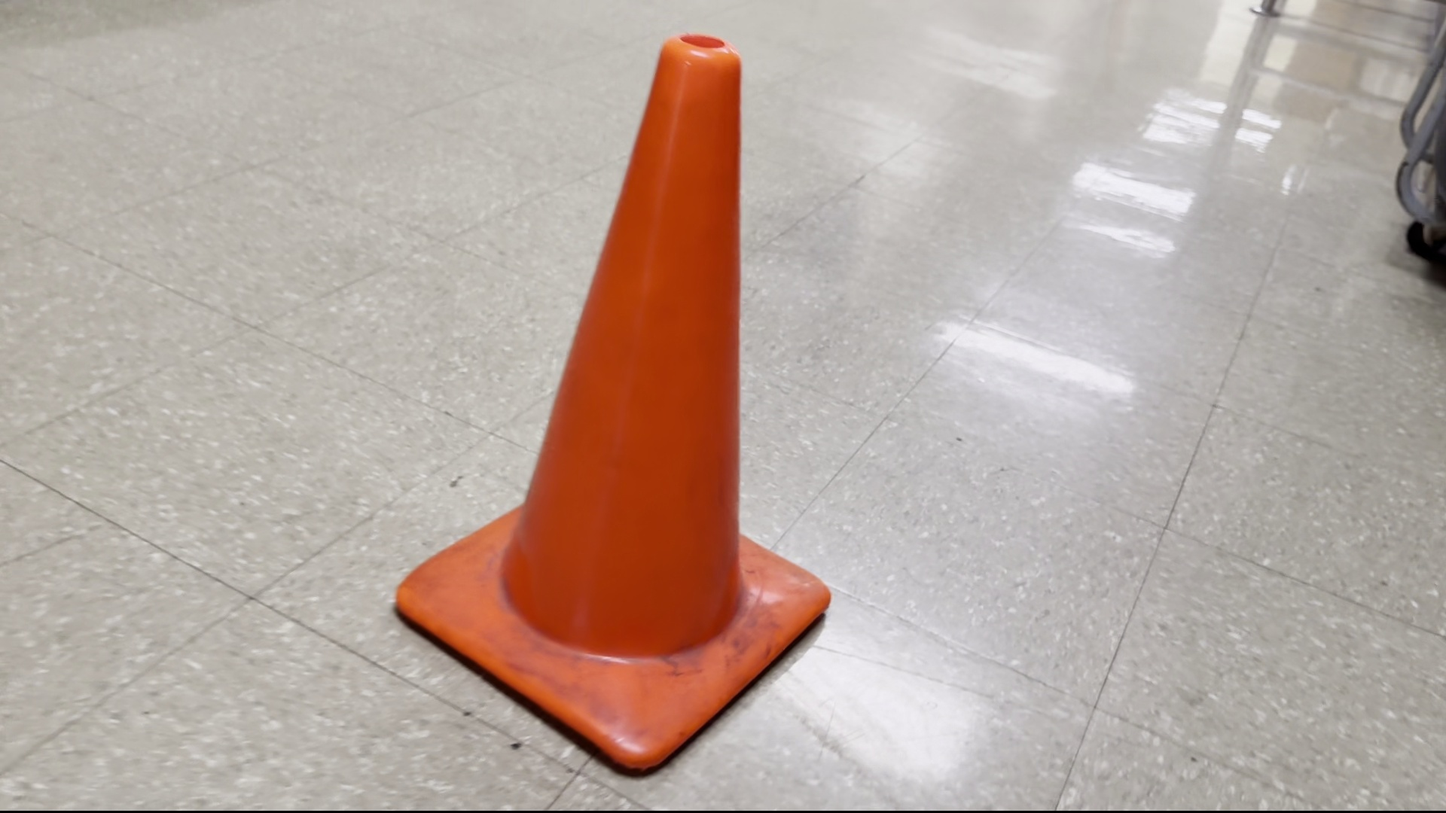traffic_cone: (394, 31, 832, 776)
